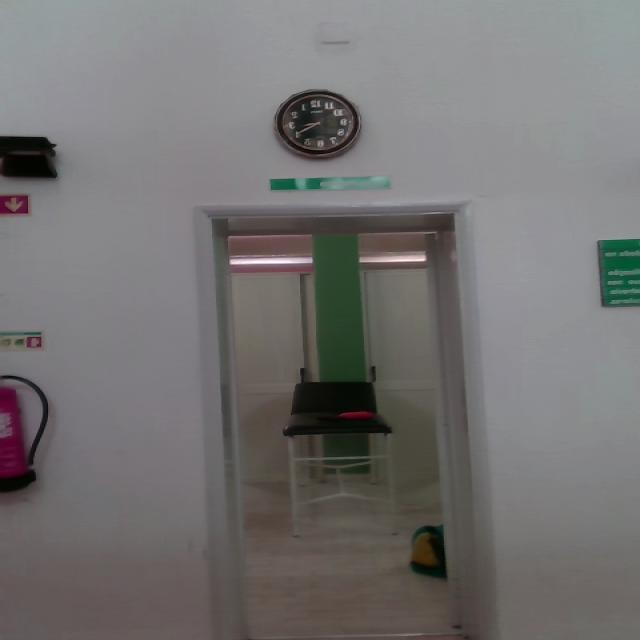door: (182, 190, 508, 640)
